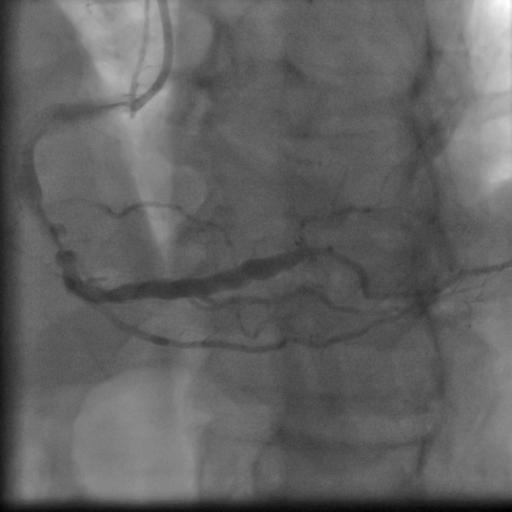Stenosis: (27, 202, 76, 262)
